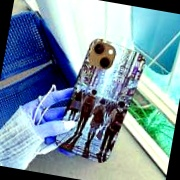iphone: (65, 38, 140, 161)
